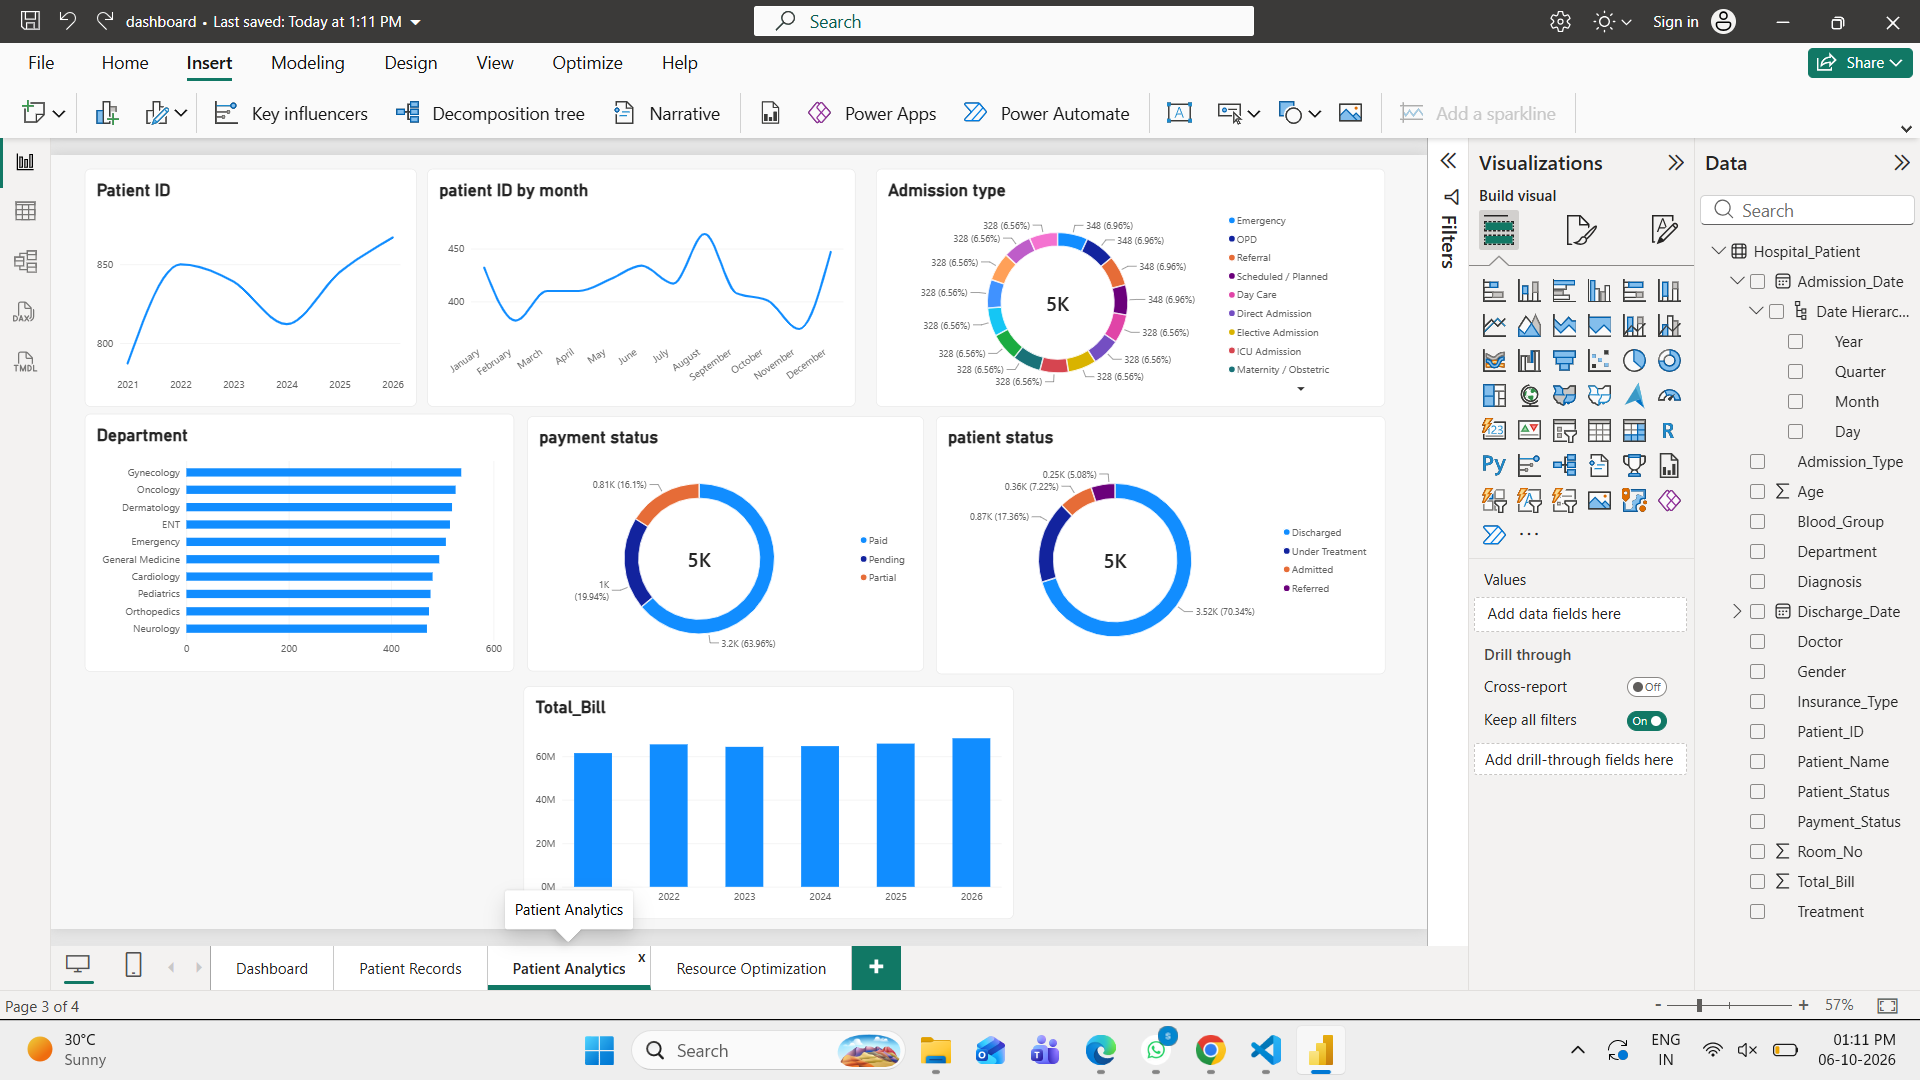

Layout of this report page (visuals, bound fields, positions):
{"tool":"powerbi","page":{"name":"Patient Analytics","canvas":[1920,1080],"ordinal":2},"visuals":[{"type":"lineChart","title":"patient ID by month","fields":{"Category":["Hospital_Patient.Admission_Date.Variation.Date Hierarchy.Month"],"Y":["CountNonNull(Hospital_Patient.Patient_ID)"]},"box":[525.8,18.4,597.7,332.1],"z":0},{"type":"lineChart","title":" Patient ID","fields":{"Category":["Hospital_Patient.Admission_Date.Variation.Date Hierarchy.Year"],"Y":["CountNonNull(Hospital_Patient.Patient_ID)"]},"box":[48,18.4,463,332.1],"z":1000},{"type":"barChart","title":"Department","fields":{"Category":["Hospital_Patient.Department"],"Y":["CountNonNull(Hospital_Patient.Patient_ID)"]},"box":[48,361.6,599.5,359.7],"z":2000},{"type":"donutChart","title":"Admission type","fields":{"Category":["Hospital_Patient.Admission_Type"],"Y":["CountNonNull(Hospital_Patient.Patient_ID)"]},"box":[1151.1,18.4,710.2,332.1],"z":3000},{"type":"donutChart","title":"payment status ","fields":{"Category":["Hospital_Patient.Payment_Status"],"Y":["CountNonNull(Hospital_Patient.Patient_ID)"]},"box":[664.1,365.3,553.4,356],"z":4000},{"type":"donutChart","title":"patient status","fields":{"Category":["Hospital_Patient.Patient_Status"],"Y":["CountNonNull(Hospital_Patient.Patient_ID)"]},"box":[1234.1,365.3,627.2,359.7],"z":5000},{"type":"columnChart","title":"Total_Bill","fields":{"Category":["Hospital_Patient.Admission_Date.Variation.Date Hierarchy.Year"],"Y":["Sum(Hospital_Patient.Total_Bill)"]},"box":[658.6,741.6,684.4,324.7],"z":6000}]}

Visuals, with their boxes on the page's 1920x1080 design canvas (x1, y1, x2, y2). These are canvas units, not pixel positions in the 1920x1080 screenshot, which may show the page scaled, cropped or inside an application window:
"patient ID by month" lineChart: select_region(526, 18, 1124, 350)
" Patient ID" lineChart: select_region(48, 18, 511, 350)
"Department" barChart: select_region(48, 362, 648, 721)
"Admission type" donutChart: select_region(1151, 18, 1861, 350)
"payment status " donutChart: select_region(664, 365, 1218, 721)
"patient status" donutChart: select_region(1234, 365, 1861, 725)
"Total_Bill" columnChart: select_region(659, 742, 1343, 1066)
